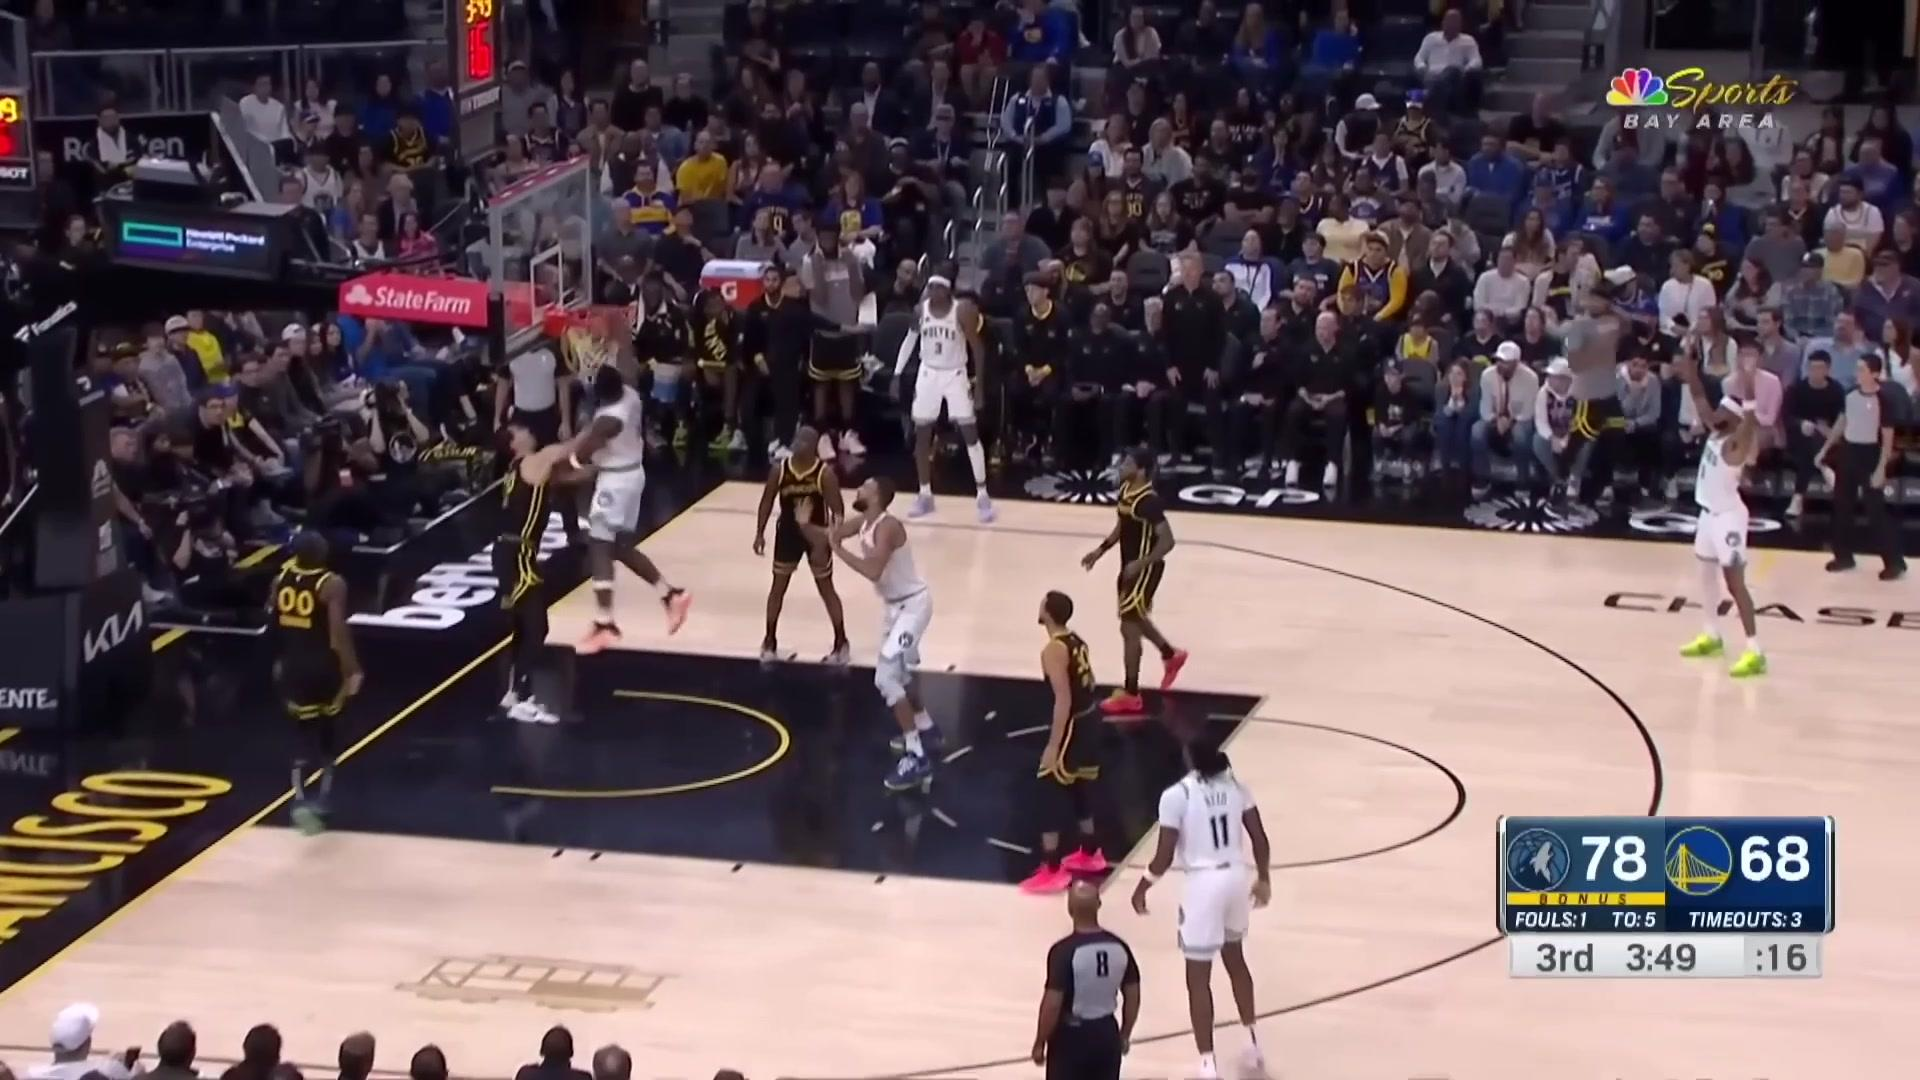foul: (484, 309, 712, 717)
